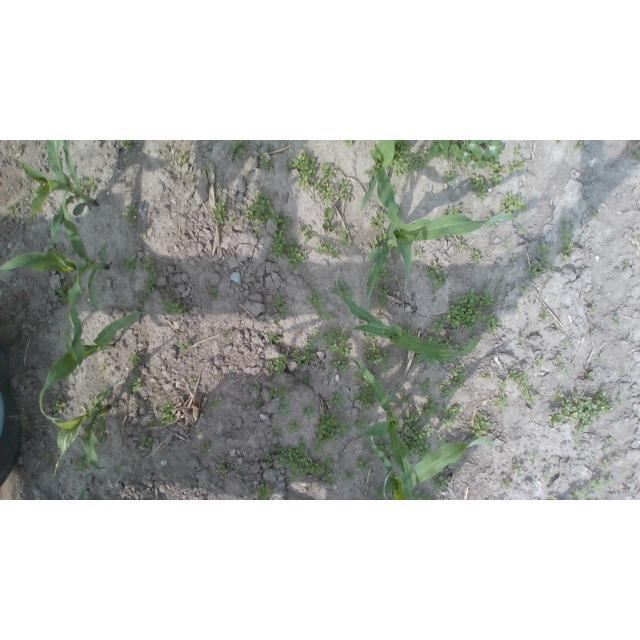Maize: (365, 151, 516, 297), (0, 185, 112, 311), (333, 274, 484, 366), (39, 308, 151, 432), (349, 359, 416, 500), (368, 432, 496, 500), (19, 140, 99, 238), (52, 380, 120, 481), (358, 141, 397, 212)
Weeds: (549, 389, 625, 435), (263, 438, 334, 483), (441, 287, 494, 333), (426, 140, 507, 169), (271, 214, 307, 269), (314, 412, 350, 452), (402, 418, 434, 462), (287, 151, 316, 192), (507, 368, 535, 405), (245, 191, 276, 224), (321, 327, 352, 358), (141, 253, 159, 296), (268, 384, 292, 416), (392, 141, 413, 176), (364, 341, 391, 368), (499, 193, 528, 216), (470, 411, 493, 439), (440, 403, 464, 429), (354, 383, 377, 409), (559, 225, 575, 262), (527, 257, 553, 279), (471, 173, 490, 202), (272, 294, 289, 325), (269, 352, 290, 377), (425, 265, 447, 288), (506, 149, 526, 174), (314, 180, 337, 201), (422, 396, 441, 421), (159, 401, 177, 427), (292, 348, 311, 370), (212, 199, 228, 225), (162, 300, 188, 316), (484, 311, 502, 334), (315, 241, 338, 259), (412, 147, 429, 171), (450, 366, 467, 389), (322, 206, 337, 232), (306, 288, 324, 309), (333, 279, 352, 298), (256, 482, 276, 500), (489, 166, 506, 187), (338, 178, 352, 203), (372, 209, 389, 229), (122, 203, 139, 223), (588, 476, 613, 489), (435, 381, 453, 399), (493, 392, 508, 413), (431, 316, 446, 337), (57, 282, 72, 303), (376, 285, 390, 307), (119, 257, 137, 274), (299, 226, 317, 243), (331, 357, 350, 373), (259, 154, 274, 174), (553, 354, 568, 374), (230, 140, 245, 160), (375, 439, 392, 456), (128, 350, 145, 367), (126, 377, 143, 394), (405, 409, 421, 427), (81, 175, 97, 193), (73, 457, 92, 472), (306, 327, 320, 347), (340, 228, 353, 248), (327, 393, 344, 408), (354, 456, 371, 471), (573, 487, 592, 500), (420, 377, 433, 396), (323, 469, 338, 485), (286, 419, 301, 435), (434, 474, 449, 490), (51, 401, 66, 416), (300, 403, 316, 417), (206, 397, 222, 411), (444, 167, 458, 183), (511, 459, 524, 476), (469, 249, 482, 265), (317, 309, 334, 321), (400, 392, 413, 407), (413, 490, 432, 500), (517, 283, 531, 296), (443, 205, 461, 215), (344, 469, 356, 484), (536, 243, 552, 254), (177, 150, 189, 164), (267, 333, 281, 345), (365, 331, 377, 344), (253, 397, 265, 410), (141, 436, 154, 448), (427, 334, 441, 345), (355, 419, 369, 430), (120, 140, 135, 150), (414, 245, 426, 257), (40, 452, 53, 463), (381, 268, 392, 281), (574, 141, 587, 152), (12, 146, 23, 159), (412, 354, 424, 365), (443, 337, 455, 348), (531, 357, 544, 367), (454, 343, 468, 352), (217, 465, 228, 476), (144, 421, 155, 432), (7, 204, 18, 215), (189, 376, 199, 388), (176, 342, 189, 351), (374, 489, 385, 499), (540, 310, 550, 321), (202, 442, 212, 453), (455, 241, 466, 251), (253, 227, 263, 238), (402, 326, 412, 336), (497, 378, 507, 388), (253, 382, 263, 392), (274, 424, 283, 435), (304, 374, 311, 387), (600, 461, 610, 470), (489, 221, 500, 229), (186, 175, 195, 184), (140, 232, 149, 241), (439, 437, 448, 446), (209, 287, 217, 297), (227, 369, 237, 377), (613, 315, 620, 326), (99, 363, 106, 374), (342, 141, 353, 148), (240, 406, 249, 414), (115, 465, 123, 474), (586, 371, 595, 379), (589, 331, 597, 339), (542, 472, 549, 481), (201, 164, 208, 173), (593, 210, 600, 219), (504, 238, 510, 248), (501, 482, 509, 489), (635, 150, 640, 161), (606, 437, 615, 443), (590, 303, 596, 312), (548, 496, 558, 501), (511, 251, 515, 261), (485, 373, 491, 379), (602, 448, 609, 453)
